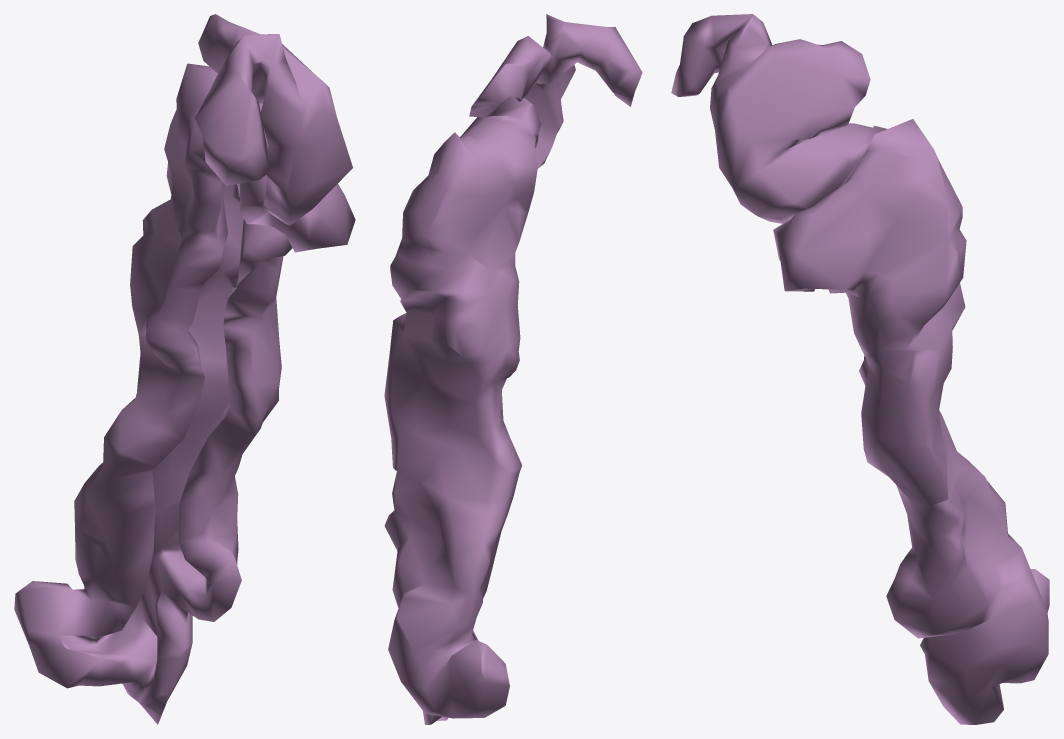
The picture shows the model from 3 angles, left to right: view 1: azimuth 30°, elevation 25°; view 2: azimuth 150°, elevation 25°; view 3: azimuth 270°, elevation 25°; orthographic projection. The views are drawn at different scales.
Visible parts, largest first — view 1: 左侧颞下回; view 2: 左侧颞下回; view 3: 左侧颞下回.
Part boxes in pixels (<box>): 左侧颞下回: <box>14,14,355,724</box>; 左侧颞下回: <box>384,14,642,724</box>; 左侧颞下回: <box>671,14,1049,724</box>.
Bounding box in the file's own units: 0.0378 × 0.1321 × 0.0649.
